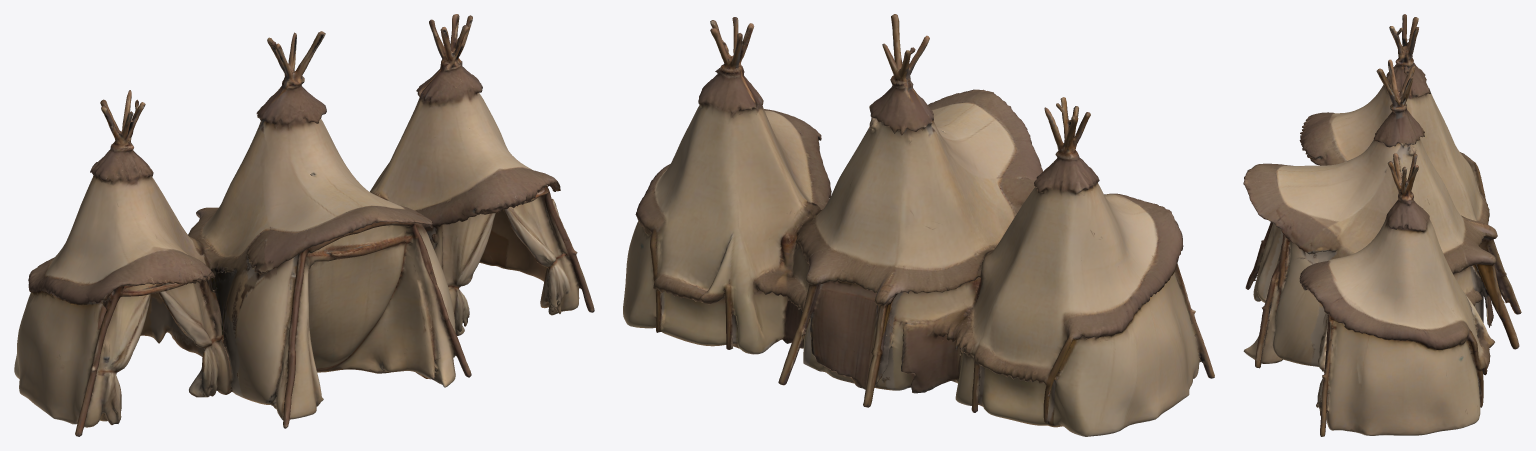
The model's file is three_very_primitive__0813190032_texture.fbx.
3 views of the same model, side by side, from view 1: azimuth 30°, elevation 25°; view 2: azimuth 150°, elevation 25°; view 3: azimuth 270°, elevation 25° (orthographic). The views are drawn at different scales.
Parts seen in each view (by area): view 1: Mesh1.0; view 2: Mesh1.0; view 3: Mesh1.0.
Boxes of the visible parts, x1,y1,x2,y2 form: Mesh1.0: (14,14,594,436); Mesh1.0: (623,14,1214,436); Mesh1.0: (1243,14,1521,436).
Size of the model in its own units: 199 by 115 by 107.
Materials: 1 (1 with a texture image).
